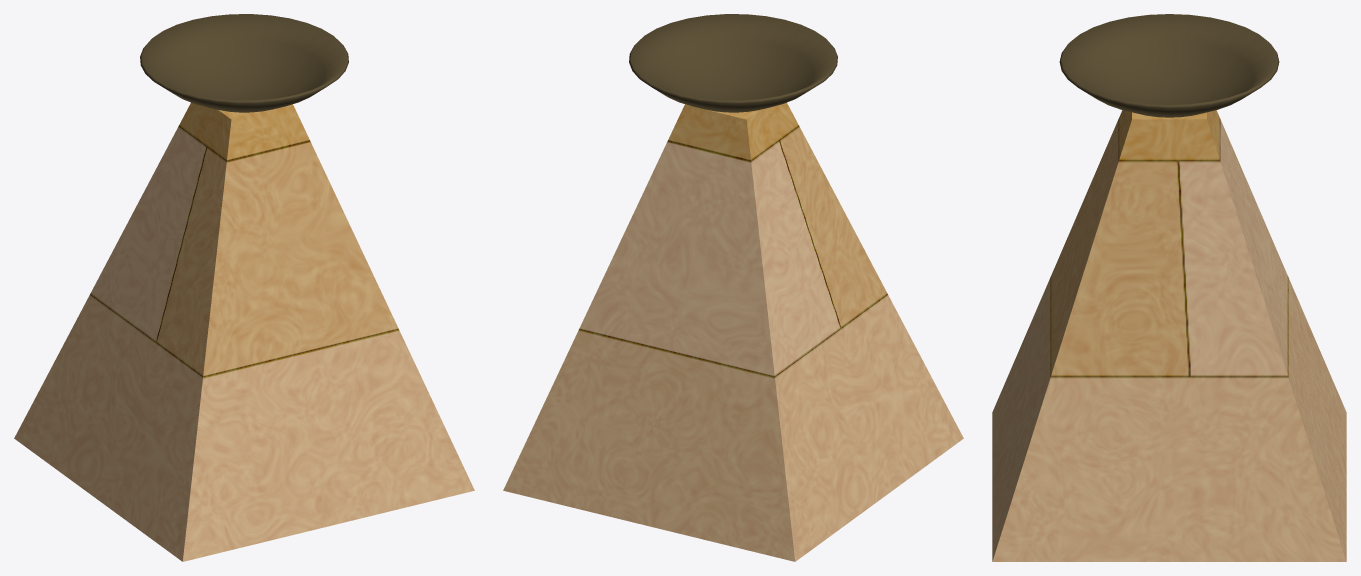
Rendered from fire_pole.fbx.
3 renders of one model, left to right at view 1: azimuth 30°, elevation 25°; view 2: azimuth 150°, elevation 25°; view 3: azimuth 270°, elevation 25°, orthographic. The views are drawn at different scales.
Visible parts, largest first — view 1: fire_pole; view 2: fire_pole; view 3: fire_pole.
Boxes of the visible parts, x1,y1,x2,y2 form: fire_pole: [14, 14, 474, 561]; fire_pole: [503, 14, 963, 561]; fire_pole: [992, 14, 1346, 561].
Bounding box in the file's own units: 100 × 133 × 100.
Materials: 1 (1 with a texture image).
